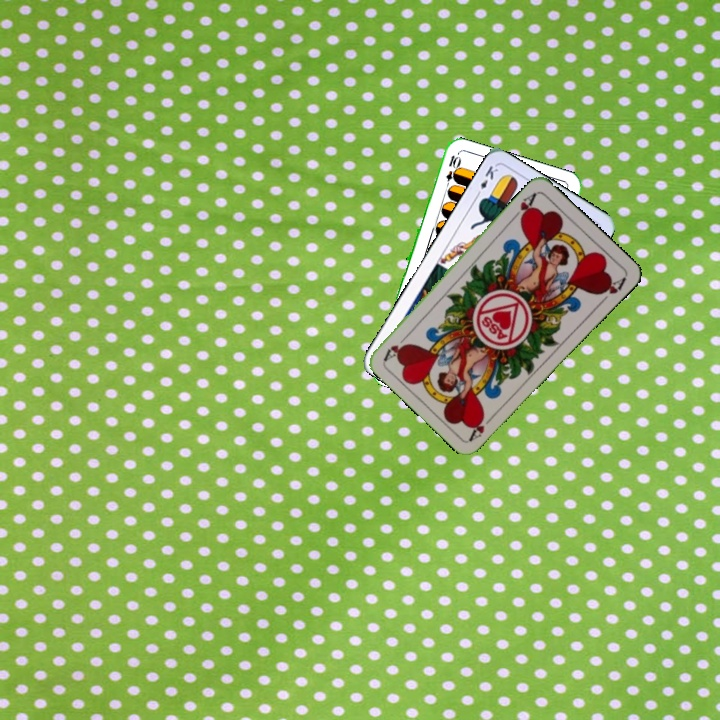E10: (441, 151, 462, 192)
EK: (472, 162, 501, 199)
HA: (508, 188, 540, 224), (465, 410, 498, 443)
